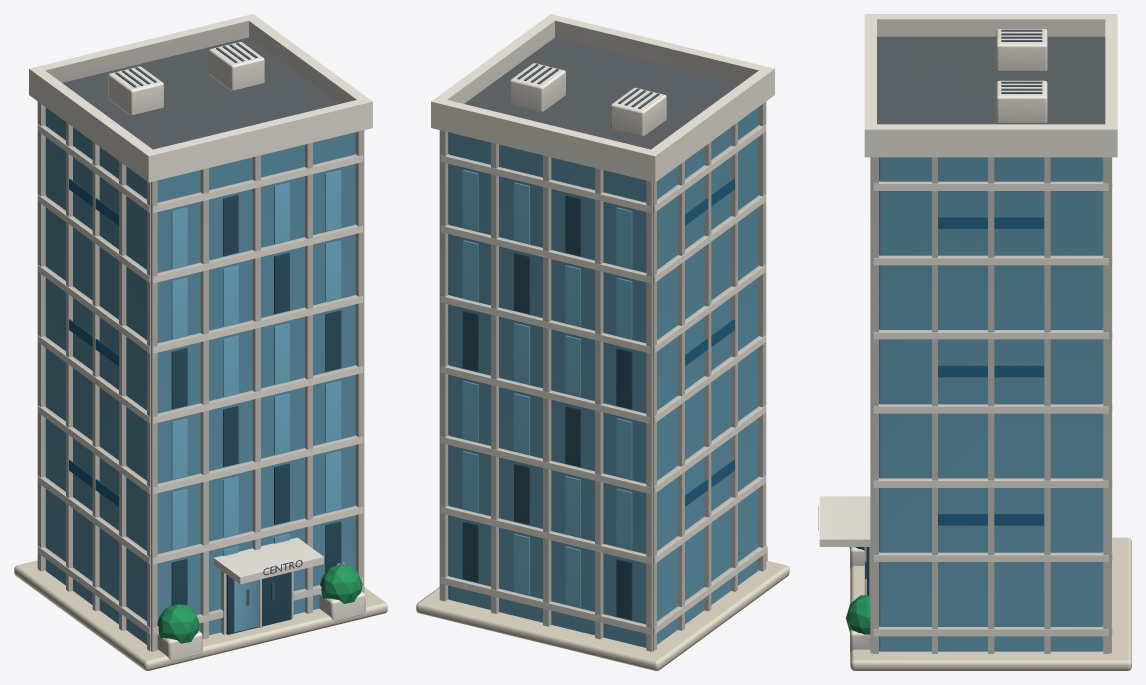
File: office-glass.glb
3 views of the same model, side by side, from view 1: azimuth 30°, elevation 25°; view 2: azimuth 150°, elevation 25°; view 3: azimuth 270°, elevation 25° (orthographic). The views are drawn at different scales.
Parts seen in each view (by area): view 1: tower glazing, vertical white fins, inset roof, blue glazing, paved lot, entrance shrub, spandrel reflection, grille; view 2: tower glazing, vertical white fins, inset roof, paved lot, blue glazing, spandrel reflection, grille; view 3: tower glazing, vertical white fins, inset roof, paved lot, spandrel reflection, grille, entrance shrub.
Part boxes in pixels (<box>): tower glazing: <box>45,107,355,644</box>; vertical white fins: <box>29,14,372,661</box>; inset roof: <box>62,37,339,149</box>; blue glazing: <box>171,195,341,634</box>; paved lot: <box>14,560,387,670</box>; entrance shrub: <box>157,564,362,643</box>; spandrel reflection: <box>69,178,118,506</box>; grille: <box>115,43,302,605</box>; tower glazing: <box>448,107,758,647</box>; vertical white fins: <box>431,14,774,651</box>; inset roof: <box>464,37,741,149</box>; paved lot: <box>416,561,789,670</box>; blue glazing: <box>462,195,632,619</box>; spandrel reflection: <box>685,178,734,506</box>; grille: <box>517,64,659,108</box>; tower glazing: <box>866,157,1103,651</box>; vertical white fins: <box>819,14,1117,653</box>; inset roof: <box>877,36,1105,124</box>; paved lot: <box>850,537,1131,670</box>; spandrel reflection: <box>938,217,1044,525</box>; grille: <box>818,29,1042,578</box>; entrance shrub: <box>846,547,870,634</box>.
Size of the model in its own units: 2.9 by 5.91 by 3.07.
